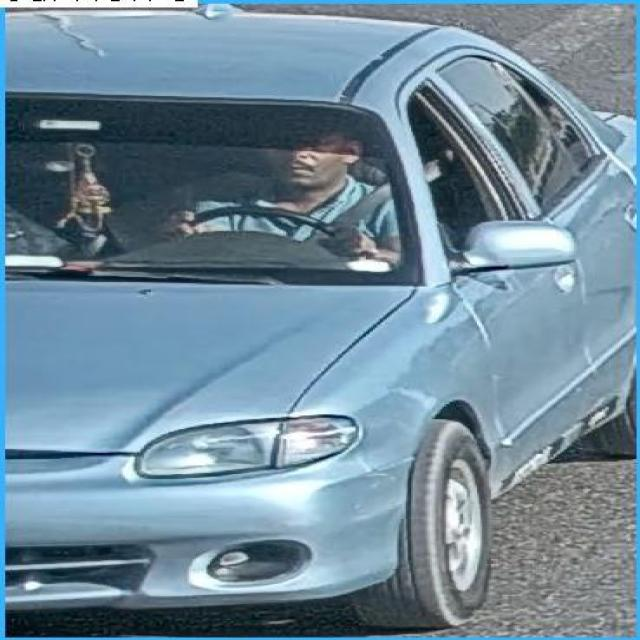Seat_belt: (141, 101, 466, 302)
